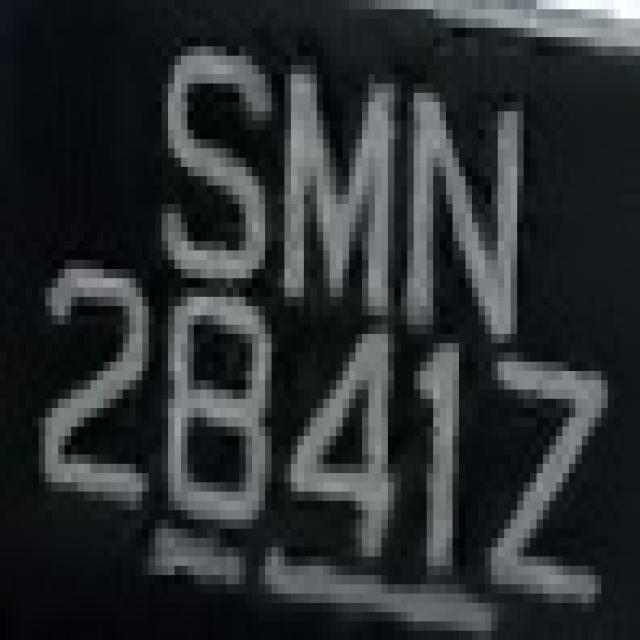1: (401, 306, 465, 584)
2: (39, 204, 155, 519)
4: (278, 297, 394, 584)
8: (156, 287, 298, 566)
M: (291, 37, 394, 343)
N: (407, 56, 530, 371)
S: (149, 18, 278, 316)
Z: (478, 324, 608, 622)
